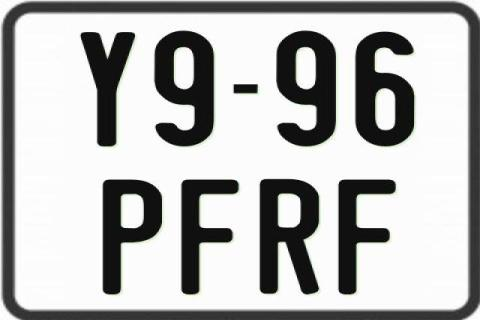0: (153, 29, 219, 147), (276, 31, 338, 151), (355, 30, 419, 146)
F: (180, 177, 243, 297), (338, 180, 399, 298)
P: (103, 179, 168, 296)
R: (259, 177, 320, 293)
Y: (78, 31, 132, 149)
